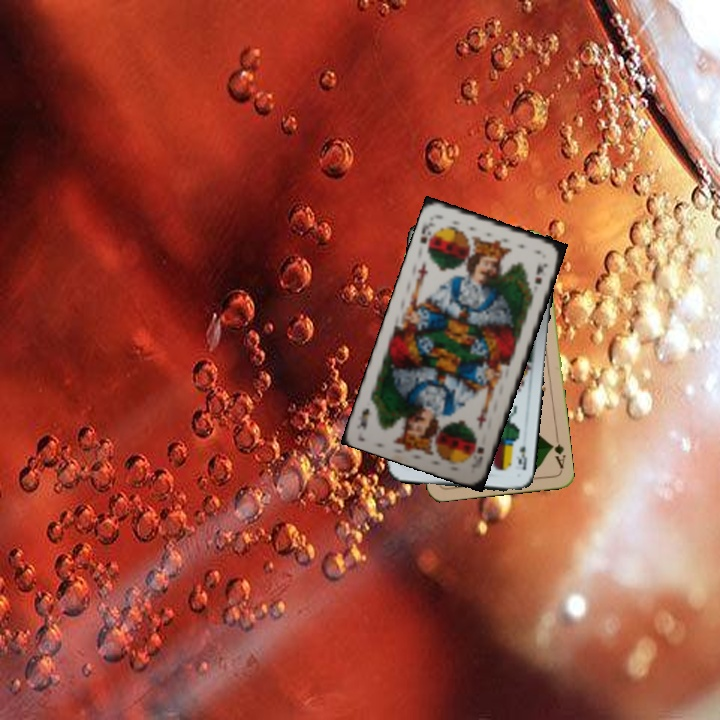EK: (512, 442, 530, 472)
GA: (546, 432, 568, 471)
SK: (416, 218, 439, 255), (467, 443, 487, 471)
